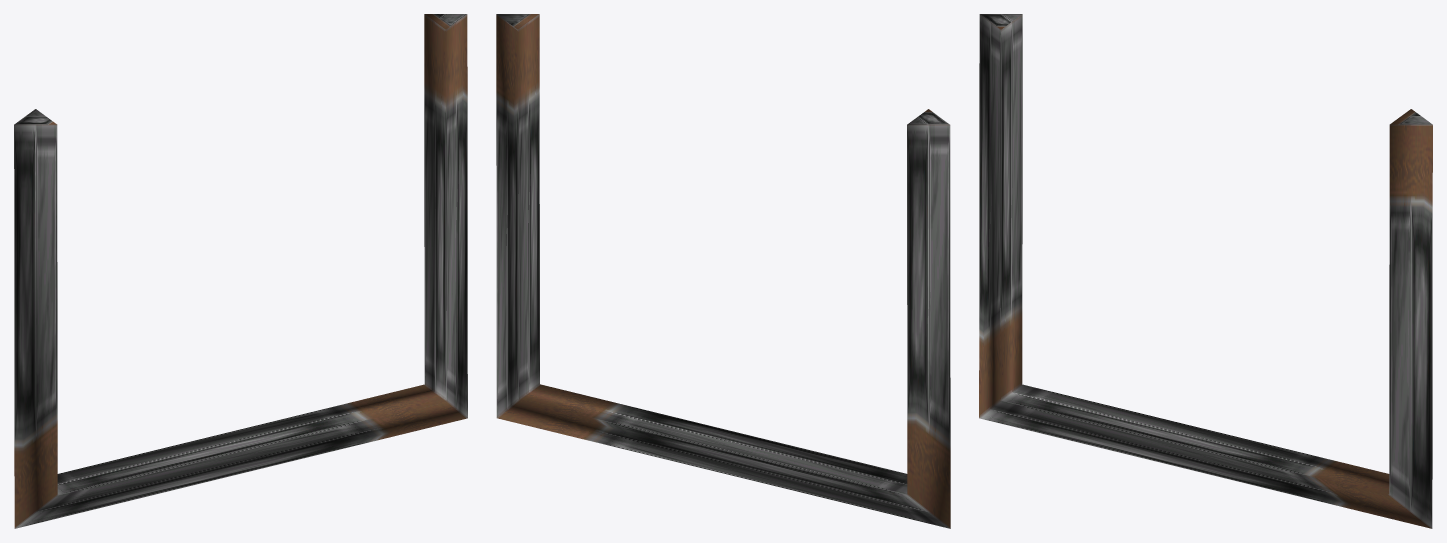
Rendered from INST_SWORDLIGHT_BRKT14MNT.fbx.
The picture shows the model from 3 angles, left to right: view 1: azimuth 30°, elevation 25°; view 2: azimuth 150°, elevation 25°; view 3: azimuth 330°, elevation 25°; orthographic projection.
Parts seen in each view (by area): view 1: INST_SWORDLIGHT_BRKT14MNT; view 2: INST_SWORDLIGHT_BRKT14MNT; view 3: INST_SWORDLIGHT_BRKT14MNT.
Part boxes in pixels (x1,y1,x2,y2): INST_SWORDLIGHT_BRKT14MNT: (14,14,467,528); INST_SWORDLIGHT_BRKT14MNT: (496,14,950,528); INST_SWORDLIGHT_BRKT14MNT: (979,14,1432,528).
Bounding box in the file's own units: 18154 × 15463 × 1529.
1 material, 1 textured.
